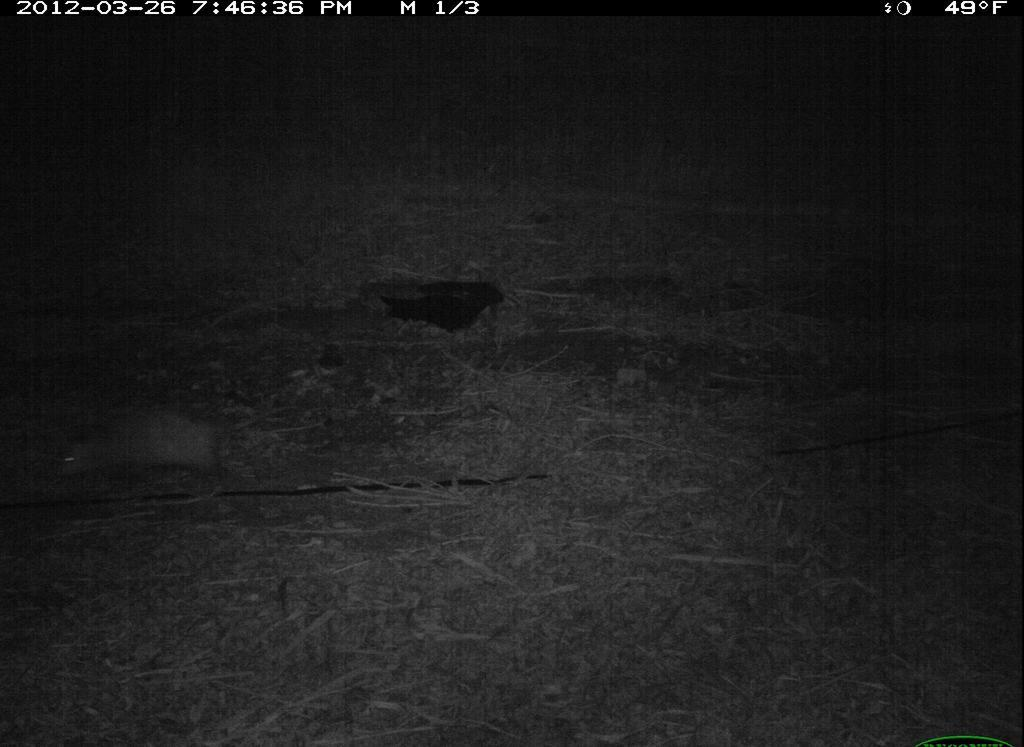opossum: (43, 391, 236, 500)
